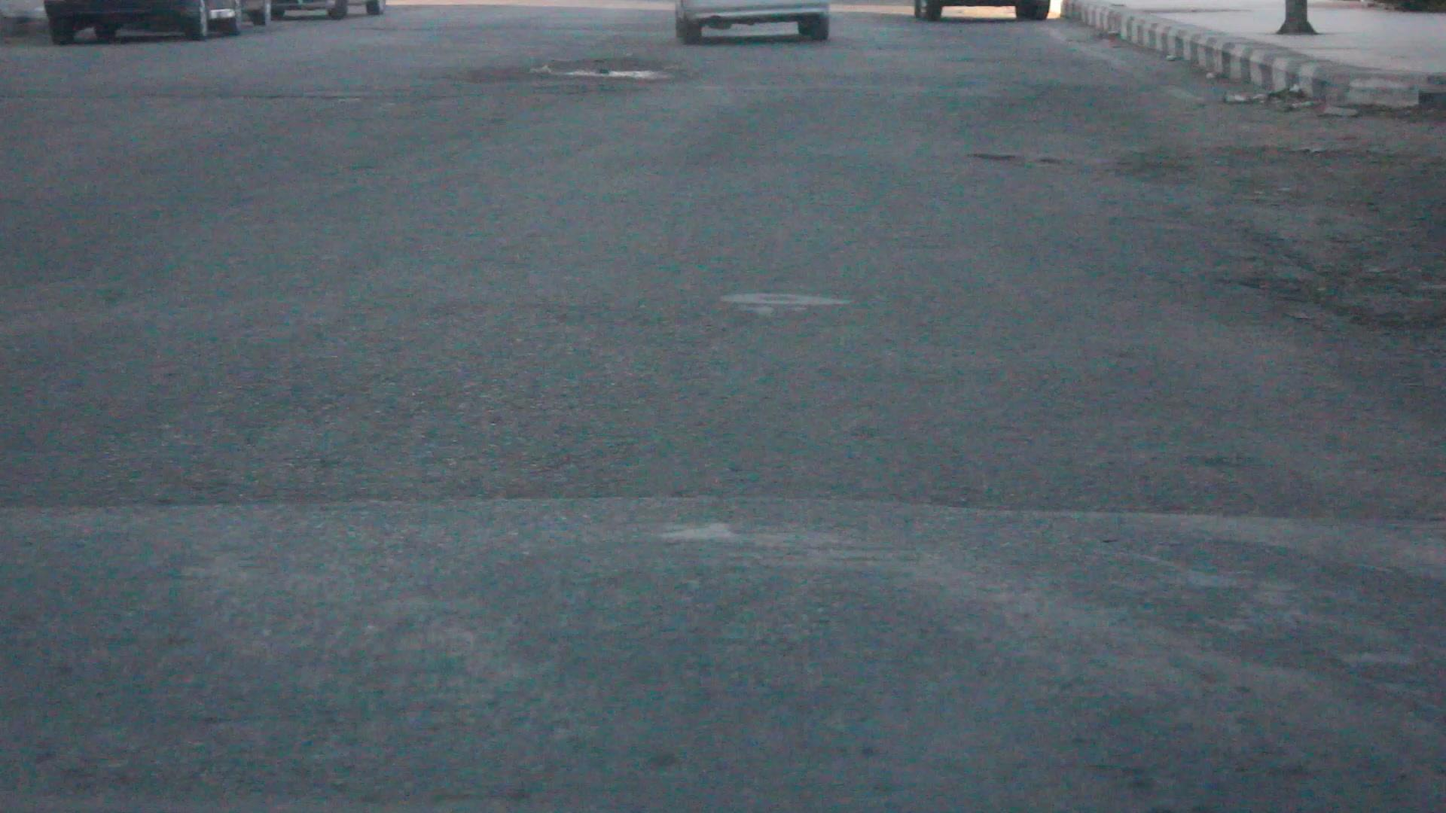Bump: (0, 502, 1445, 812)
Pothole: (999, 140, 1445, 329), (477, 58, 671, 80)
